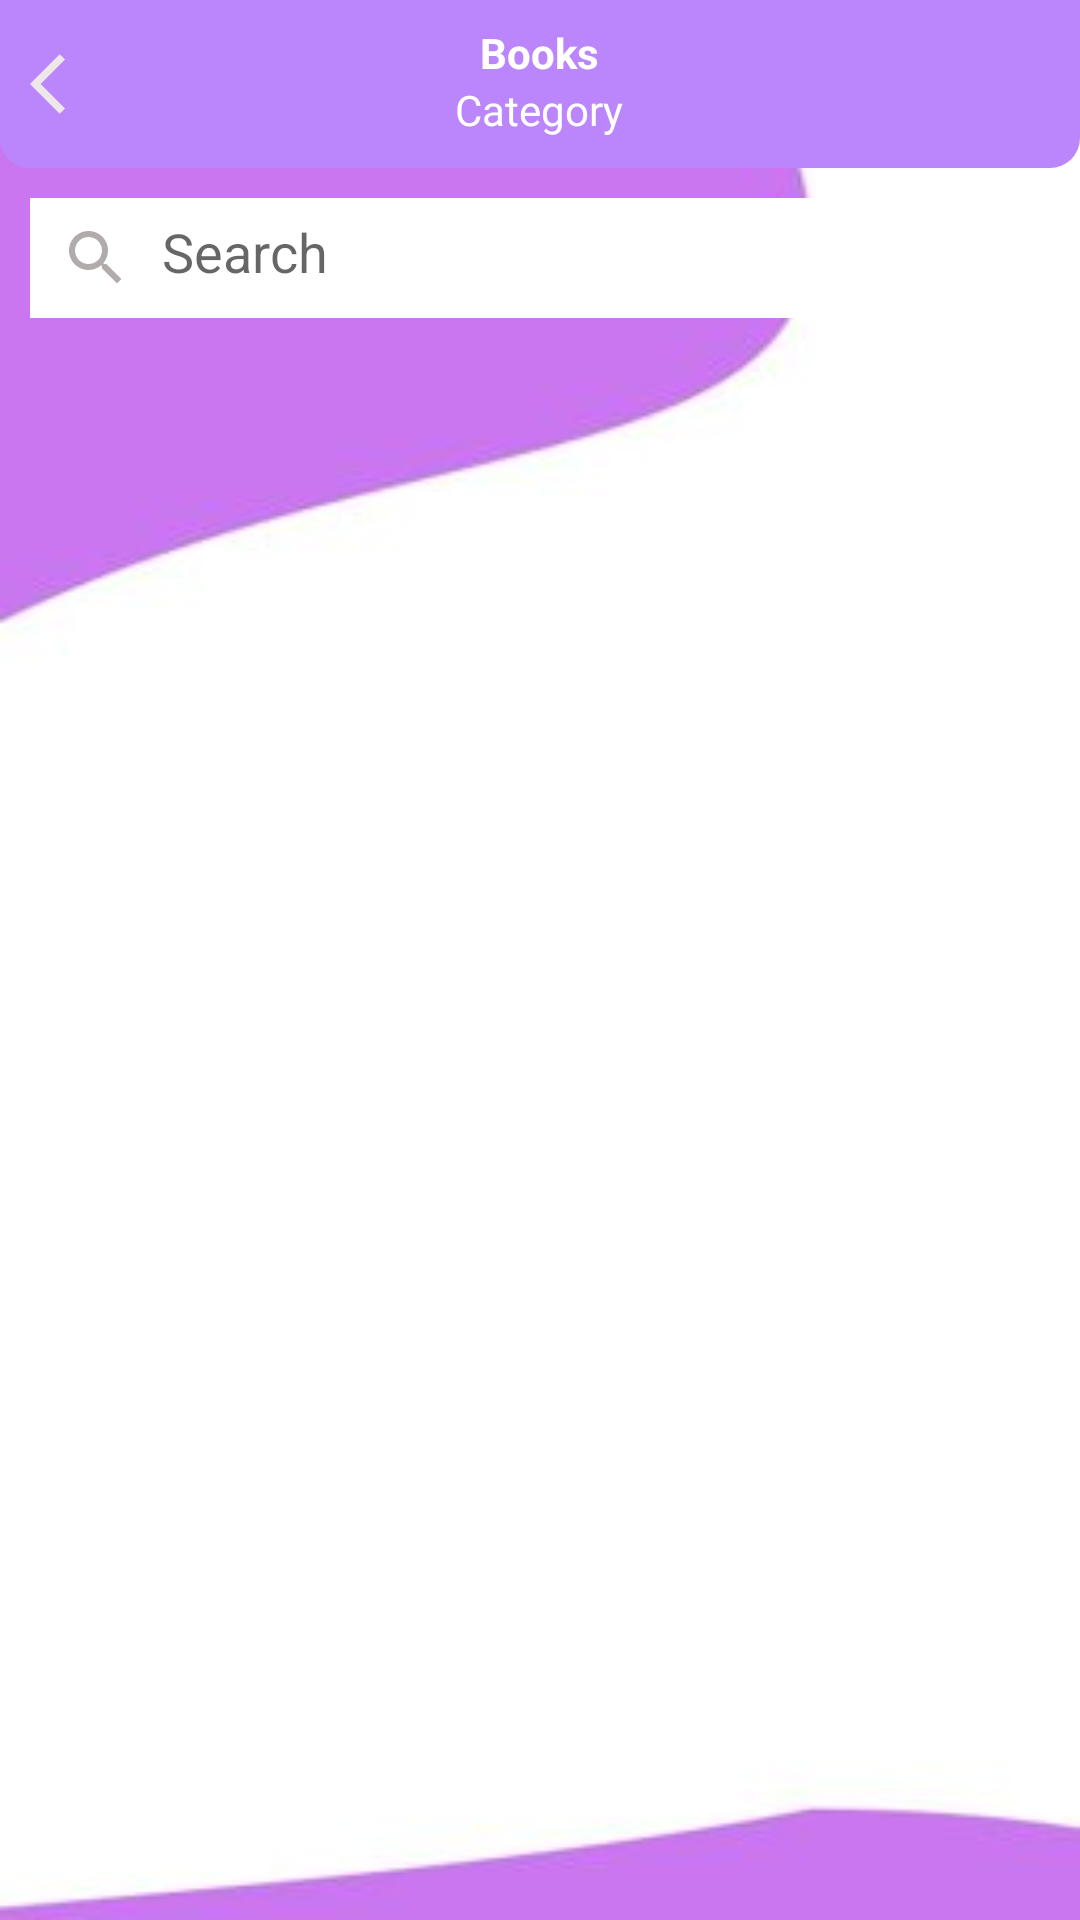

Point at icon controls on the screen. Image size 1080 × 1920, points as (x,y).
back: (47,84)
